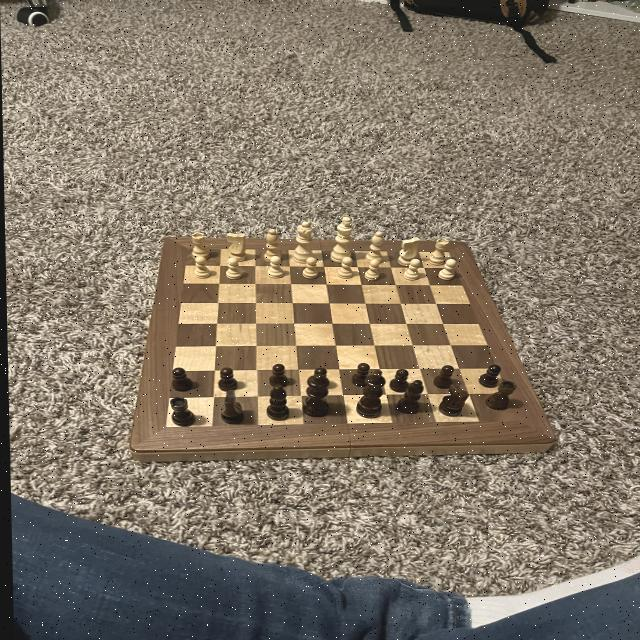bishop: (394, 378, 425, 417), (264, 383, 290, 421)
black-bishop: (352, 370, 386, 420)
black-king: (436, 383, 470, 418), (219, 388, 244, 427)
black-knight: (303, 365, 332, 393), (428, 363, 455, 391), (475, 362, 503, 389), (212, 366, 240, 392), (167, 367, 194, 392), (386, 367, 411, 394), (264, 363, 289, 388), (349, 362, 372, 388)
black-pawn: (301, 373, 330, 420)
black-queen: (480, 380, 520, 411), (161, 396, 199, 428)
black-rook: (360, 230, 388, 264), (260, 228, 285, 264)
white-bishop: (329, 215, 354, 265)
white-king: (223, 230, 248, 264), (396, 235, 422, 267)
white-knight: (264, 255, 287, 281), (335, 254, 356, 282), (436, 256, 457, 284), (190, 254, 211, 279), (361, 257, 381, 283), (401, 257, 421, 283), (222, 258, 245, 280), (299, 257, 319, 280)
white-pawn: (291, 218, 319, 267)
white-queen: (186, 231, 213, 264), (427, 237, 448, 267)
